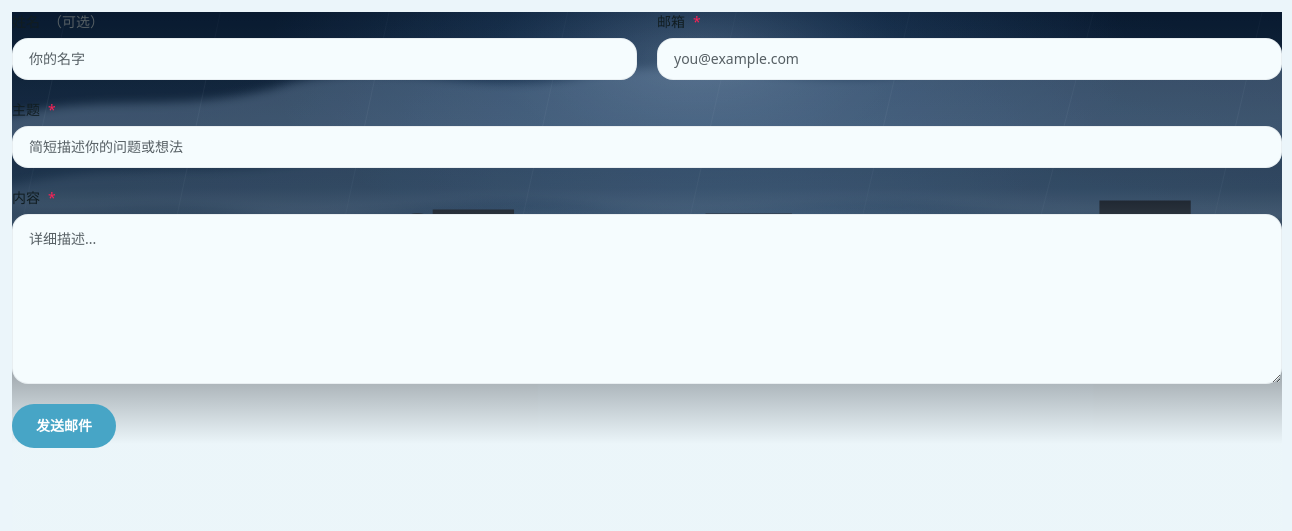
Test: ContactForm › validates required fields before opening the mail client
Click the button "发送邮件": (64, 426) [12,404,116,448]
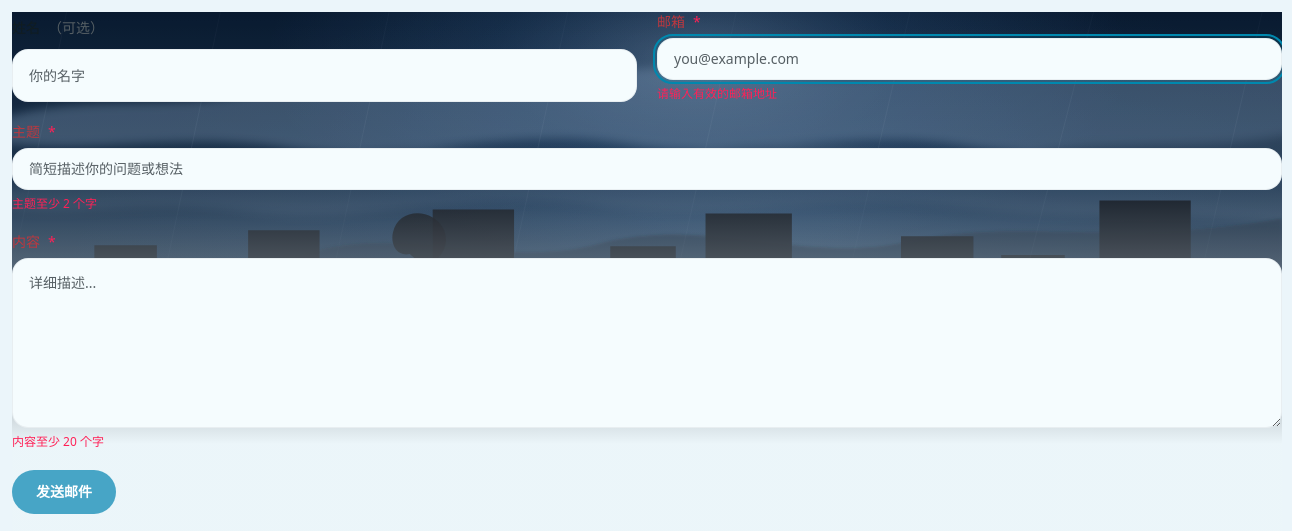
Expected: the text "请输入有效的邮箱地址" is shown, [657,85,777,102]
Expected: the text "主题至少 2 个字" is shown, [12,195,97,212]
Expected: the text "内容至少 20 个字" is shown, [12,433,104,450]
